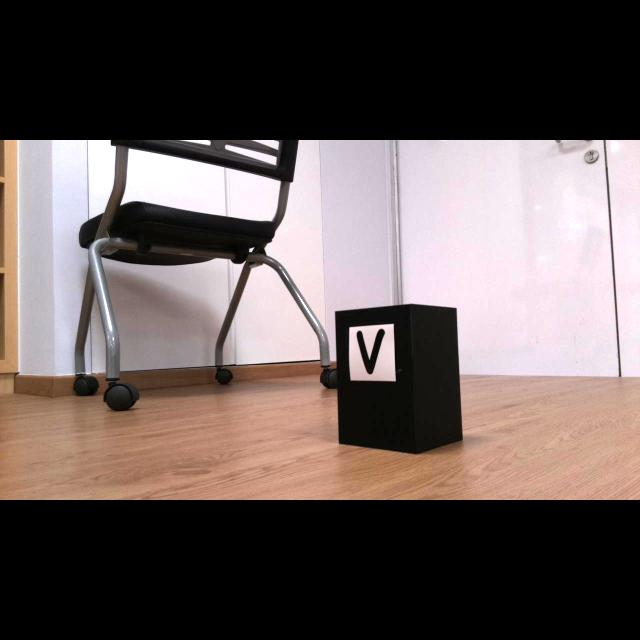V: (356, 329, 384, 374)
